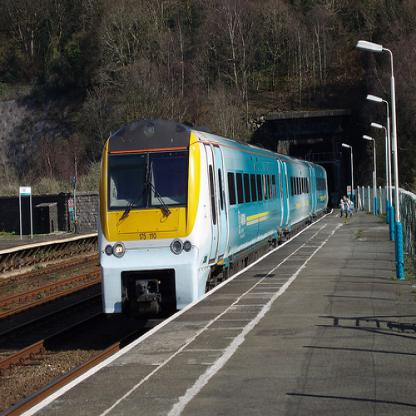train: (98, 119, 329, 326)
